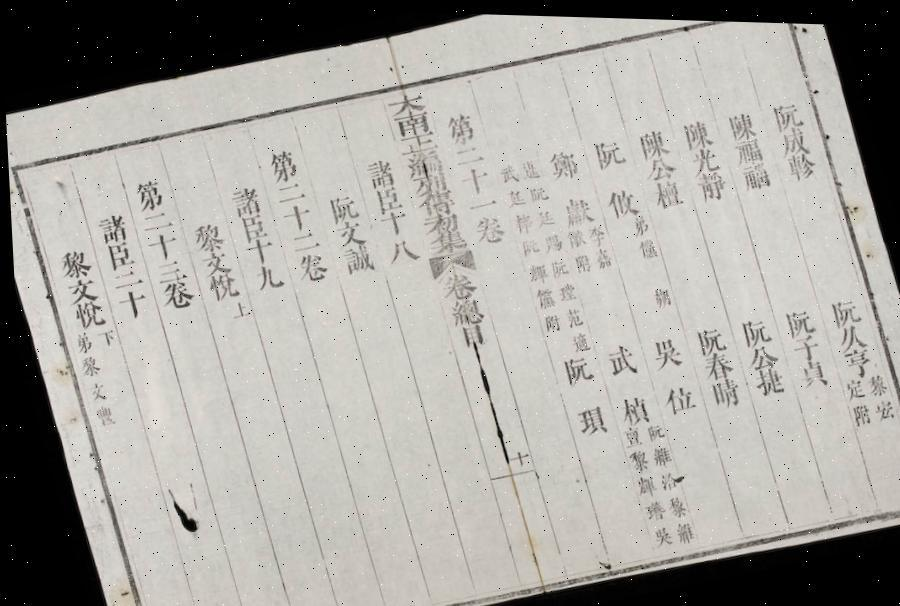c: (398, 142, 444, 179), (597, 335, 638, 376), (438, 106, 479, 146), (260, 143, 300, 184), (126, 174, 167, 214), (49, 244, 92, 282), (288, 247, 330, 285), (609, 387, 650, 425), (566, 398, 607, 436), (599, 180, 640, 218), (642, 330, 683, 368), (383, 85, 430, 118), (433, 266, 476, 302), (407, 170, 452, 204), (820, 288, 861, 325), (154, 276, 195, 313), (586, 132, 628, 168), (542, 142, 581, 180), (654, 376, 694, 413), (555, 189, 595, 226), (467, 208, 507, 245), (416, 204, 462, 236), (224, 180, 262, 218), (90, 208, 128, 246), (358, 153, 397, 190), (441, 294, 483, 328), (421, 224, 467, 255), (390, 108, 434, 140), (702, 370, 740, 407), (766, 94, 805, 130), (731, 309, 770, 345), (632, 122, 671, 158), (64, 297, 105, 331), (412, 190, 458, 220), (776, 300, 814, 336), (110, 286, 148, 322), (554, 350, 592, 386), (720, 104, 758, 140), (186, 218, 224, 254), (336, 240, 374, 276), (454, 161, 493, 196), (275, 198, 314, 233), (380, 232, 420, 266), (140, 228, 180, 262), (394, 126, 440, 155), (676, 112, 713, 148), (321, 189, 359, 224), (231, 210, 270, 244), (836, 340, 875, 374), (779, 146, 818, 180), (694, 346, 733, 380), (646, 173, 683, 208), (790, 352, 828, 386), (746, 360, 784, 394), (691, 166, 729, 200), (200, 269, 238, 303), (328, 216, 367, 249), (58, 274, 98, 306), (688, 319, 724, 354), (735, 156, 772, 190), (99, 238, 136, 272), (829, 316, 867, 349), (246, 259, 282, 293), (684, 140, 721, 173), (738, 337, 776, 369), (372, 206, 410, 238), (367, 182, 403, 215), (640, 150, 678, 181), (774, 122, 810, 154), (194, 246, 230, 278), (148, 254, 186, 284), (134, 207, 174, 235), (784, 328, 820, 359), (730, 133, 766, 164), (239, 234, 275, 263), (448, 138, 484, 166), (284, 226, 320, 254), (105, 266, 142, 293), (270, 177, 305, 205), (453, 318, 485, 348), (626, 467, 656, 496), (462, 191, 498, 214), (507, 206, 535, 235), (521, 256, 549, 284), (634, 492, 662, 520), (642, 519, 670, 547), (620, 442, 648, 470), (865, 391, 893, 418), (528, 282, 556, 309), (72, 352, 100, 379), (650, 463, 678, 490), (86, 401, 114, 428), (666, 514, 692, 542), (658, 488, 684, 516), (644, 438, 670, 466), (494, 157, 520, 184), (632, 232, 658, 259), (838, 370, 864, 397), (859, 366, 885, 393), (67, 328, 92, 356), (516, 154, 542, 180), (844, 396, 870, 422), (646, 280, 672, 306), (80, 378, 106, 404), (559, 301, 584, 328), (499, 183, 526, 208), (588, 241, 612, 269), (582, 218, 606, 246), (564, 326, 589, 352), (530, 204, 557, 228), (616, 420, 640, 447), (544, 253, 569, 278), (561, 222, 586, 247), (538, 228, 564, 252), (514, 232, 540, 256), (500, 442, 526, 466), (536, 308, 560, 333), (625, 210, 649, 235), (638, 416, 662, 441), (568, 248, 591, 274), (223, 297, 249, 320), (552, 278, 576, 302), (524, 180, 549, 203), (89, 326, 115, 348)
